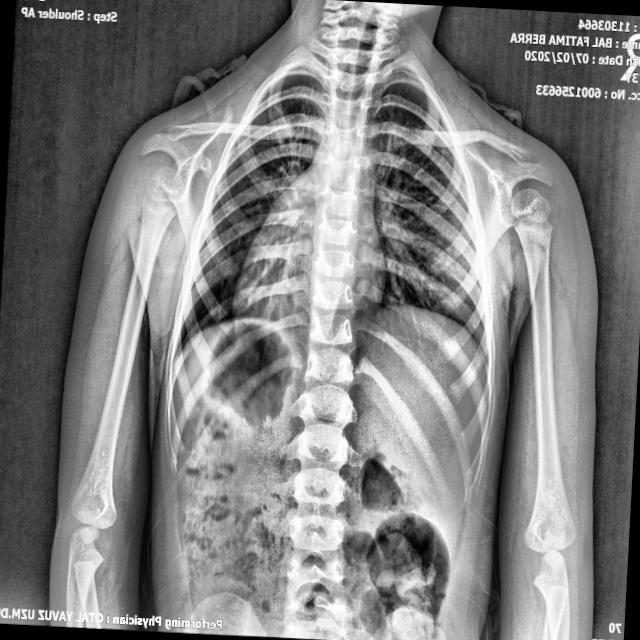Fracture: (464, 119, 504, 153)
